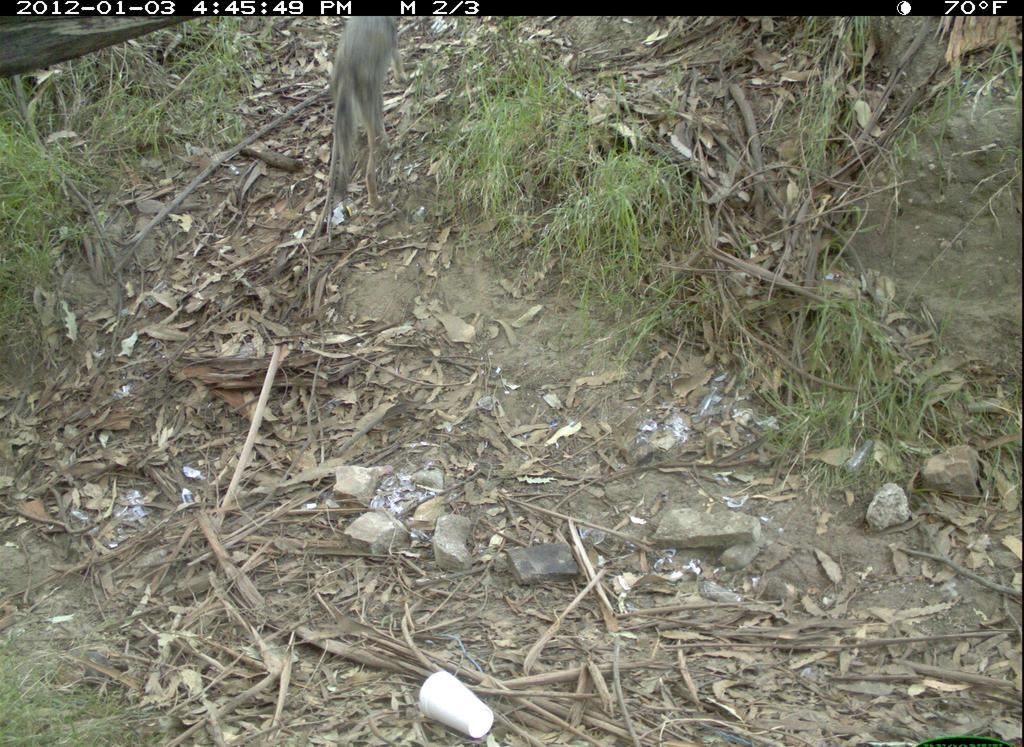coyote: (324, 12, 411, 227)
